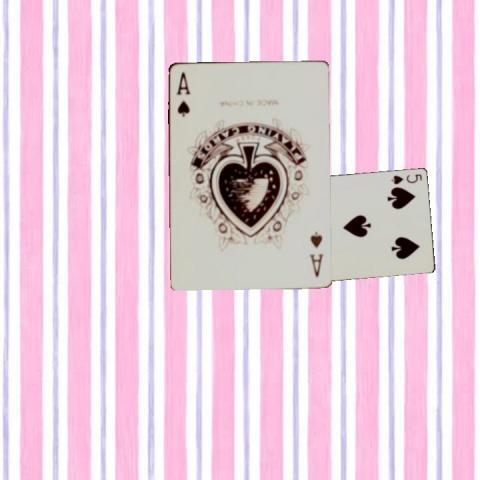5s: (389, 171, 423, 185)
As: (173, 68, 191, 118), (306, 228, 324, 278)
